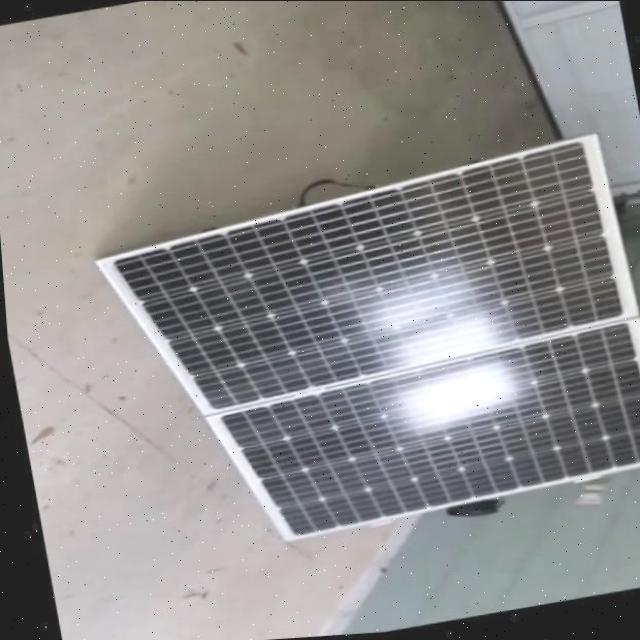Normal Solar Panel: (81, 138, 640, 566), (100, 144, 626, 424)
